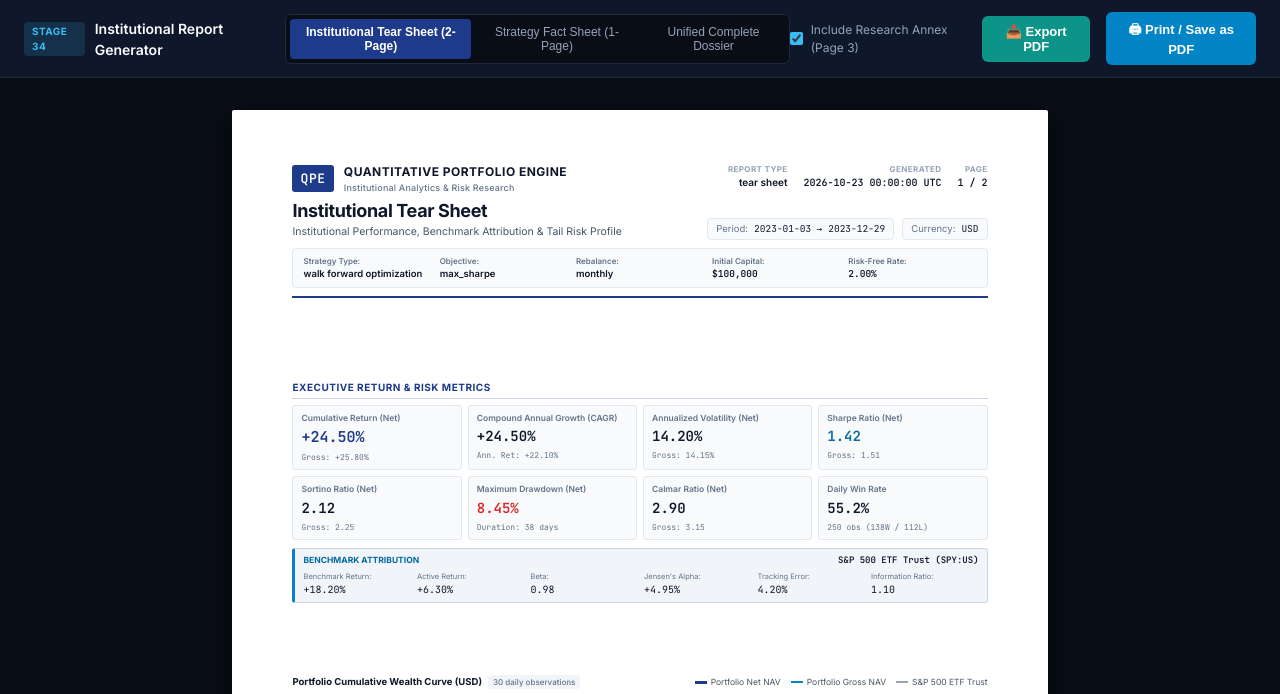
Test: Stage 34 Gate C: Master Report Viewer & Interactive Controls › allows switching tabs between Tear Sheet, Fact Sheet, and Unified Dossier
This screenshot has width=1280, height=694.
Expected: the heading "Institutional Tear Sheet" is shown, x1=292 y1=200 x2=487 y2=221
# Click Fact Sheet tab
Click the tab "Strategy Fact Sheet (1-Page)": (557, 38) x1=477 y1=18 x2=636 y2=58
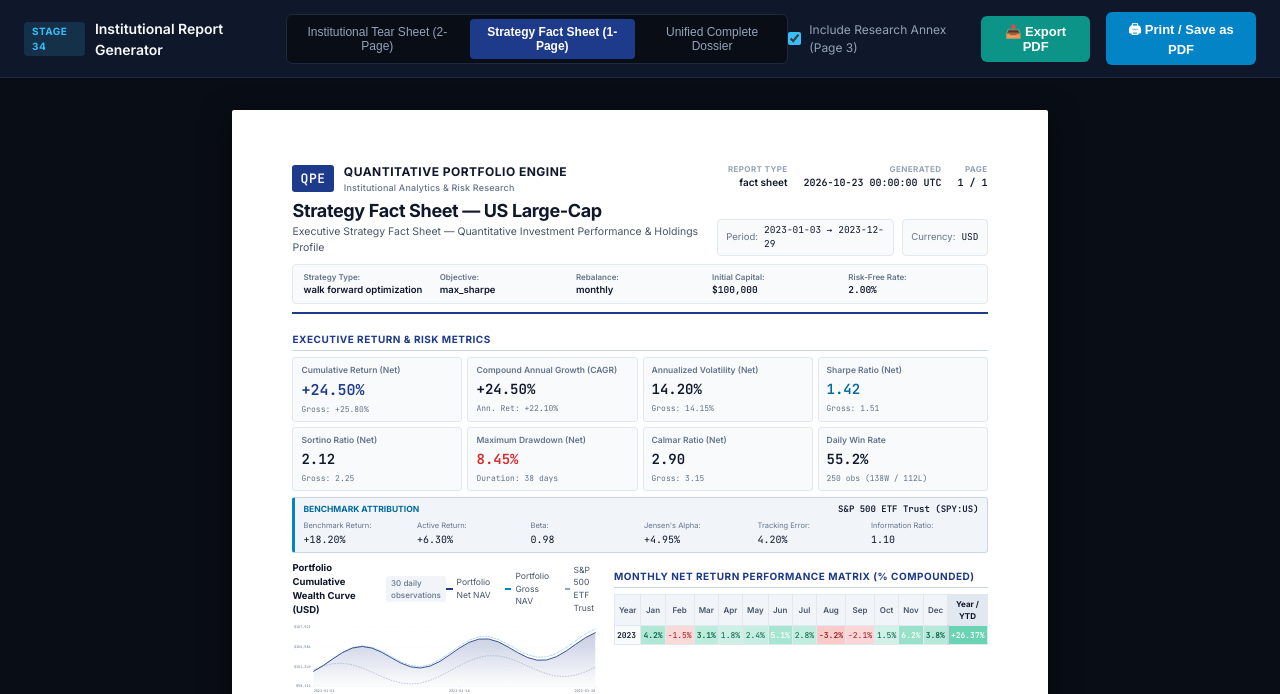
Now the heading "Strategy Fact Sheet — US Large-Cap" is shown, box x1=292 y1=200 x2=602 y2=221
# Click Unified tab
Click the tab "Unified Complete Dossier": (712, 38) x1=641 y1=18 x2=783 y2=58
(page scrolled)
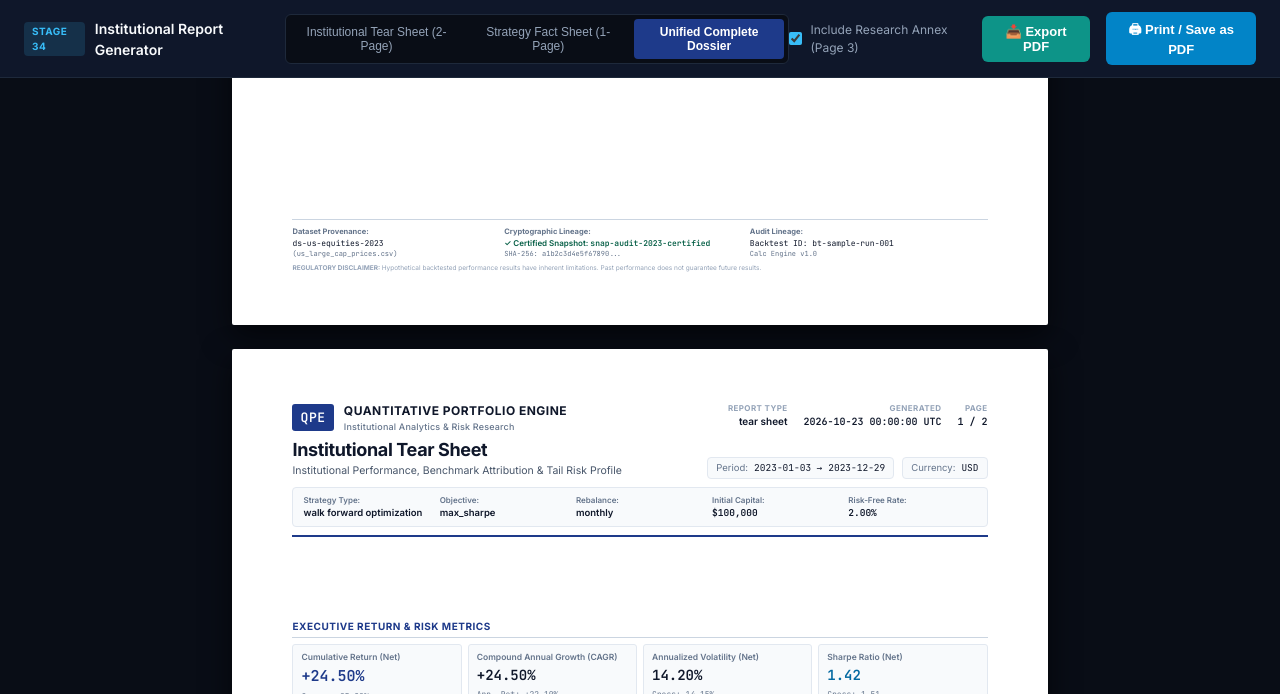
Now the heading "Institutional Tear Sheet" is shown, box x1=292 y1=439 x2=487 y2=460
